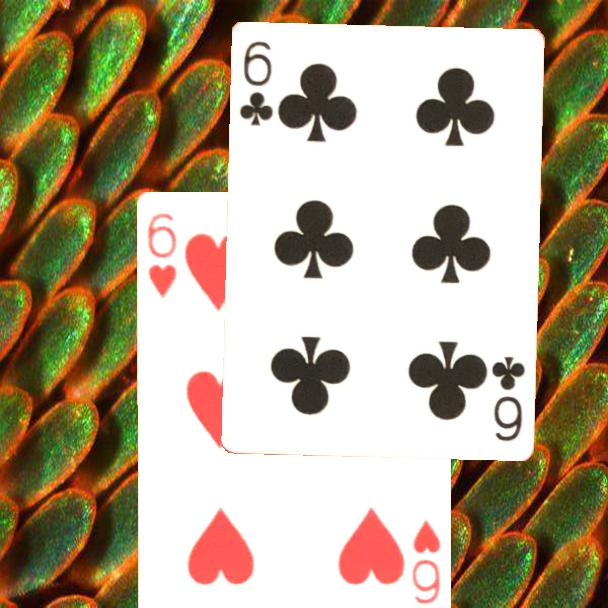c06: (236, 37, 275, 128), (488, 353, 527, 444)
h06: (143, 209, 179, 300), (408, 516, 443, 606)
